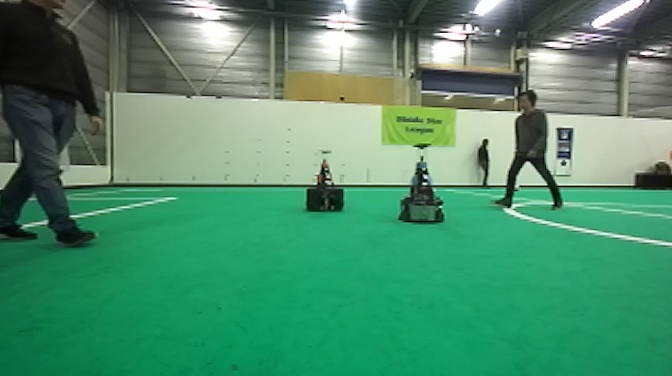ball: (509, 181, 523, 194)
human: (1, 1, 105, 250), (488, 89, 564, 212), (473, 133, 495, 189)
robot: (396, 141, 447, 225), (306, 148, 347, 212)
